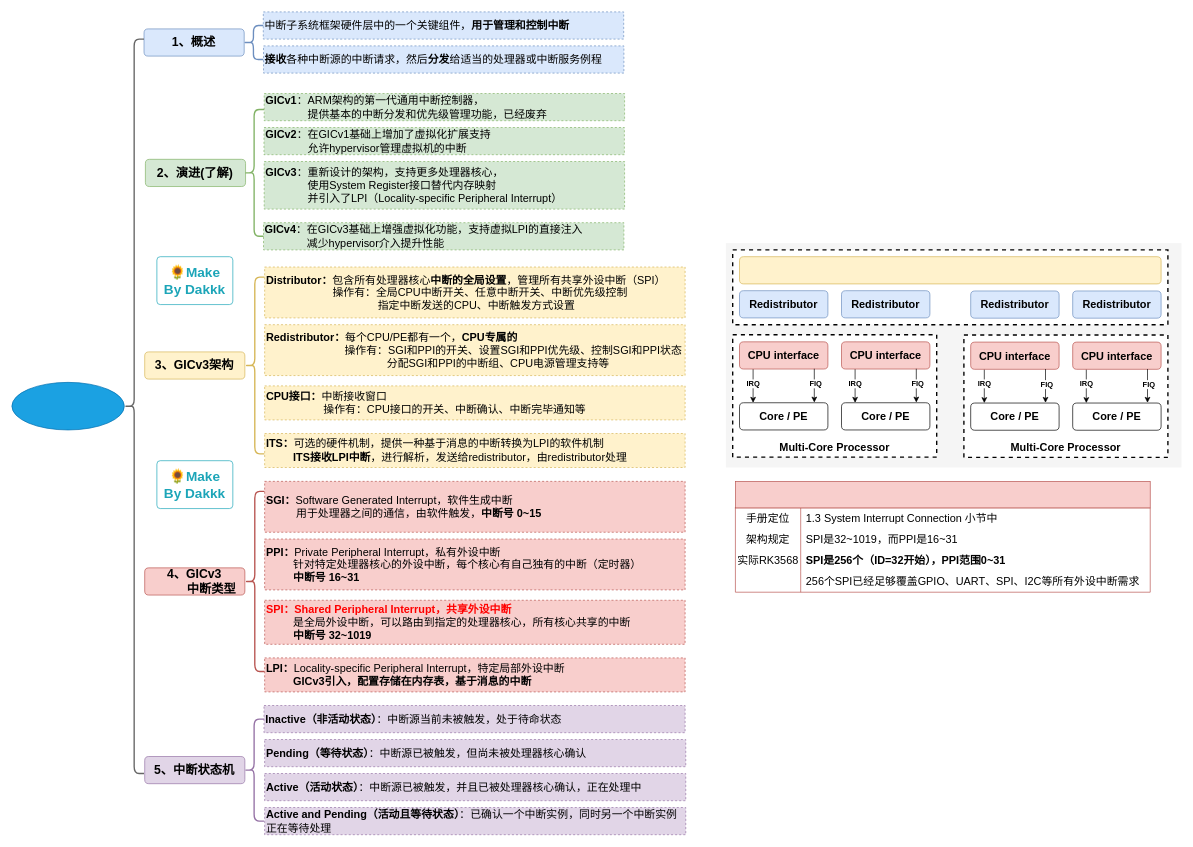
The diagram is 1193 pixels wide and 847 high, and some of its shapes have lost their labels. Each missing label, with the centre of its shape:
"Distributor" belongs at [950,270].
"GIC中断控制器" belongs at [67,406].
"RK3568，GIC中断号分配示例" belongs at [942,494].
